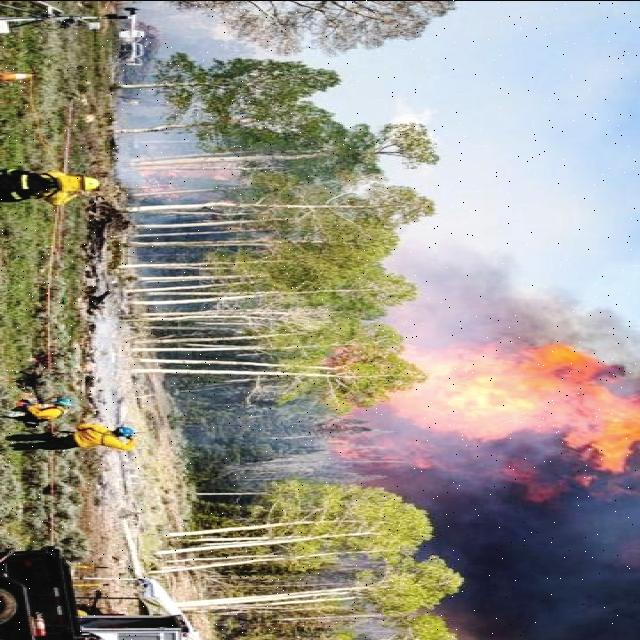api: (408, 351, 640, 436), (571, 434, 639, 467)
asap: (447, 474, 640, 638), (415, 232, 621, 350), (342, 434, 568, 472), (134, 4, 264, 52)
